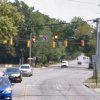Tree: (10, 1, 92, 53)
